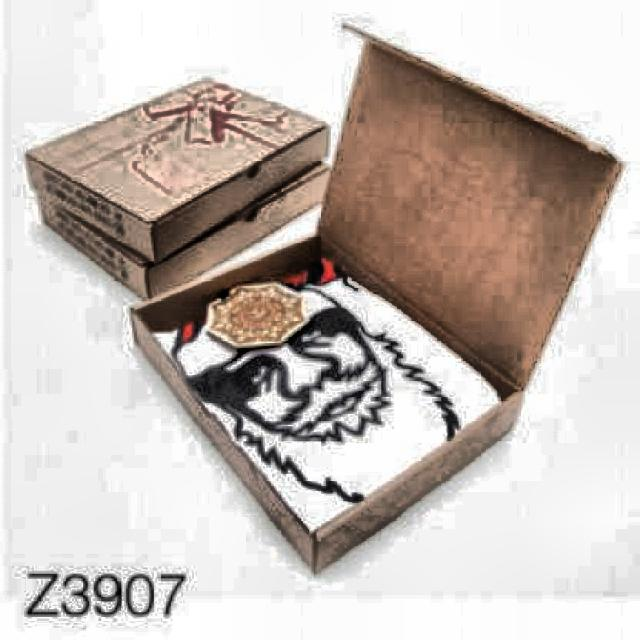Cardbox: (164, 41, 625, 578), (21, 78, 336, 298)
